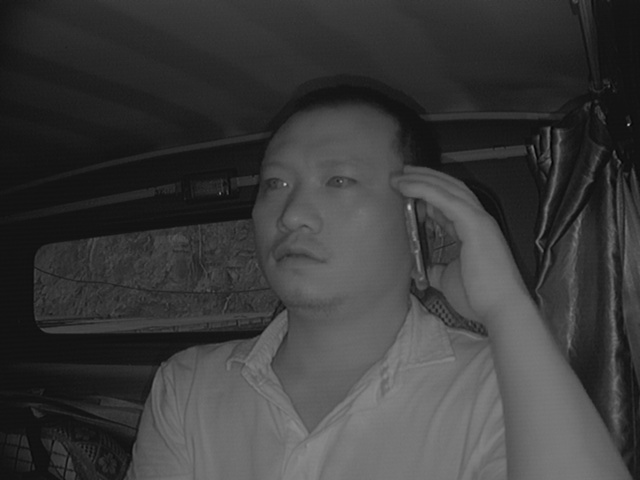hand: (395, 159, 498, 312)
